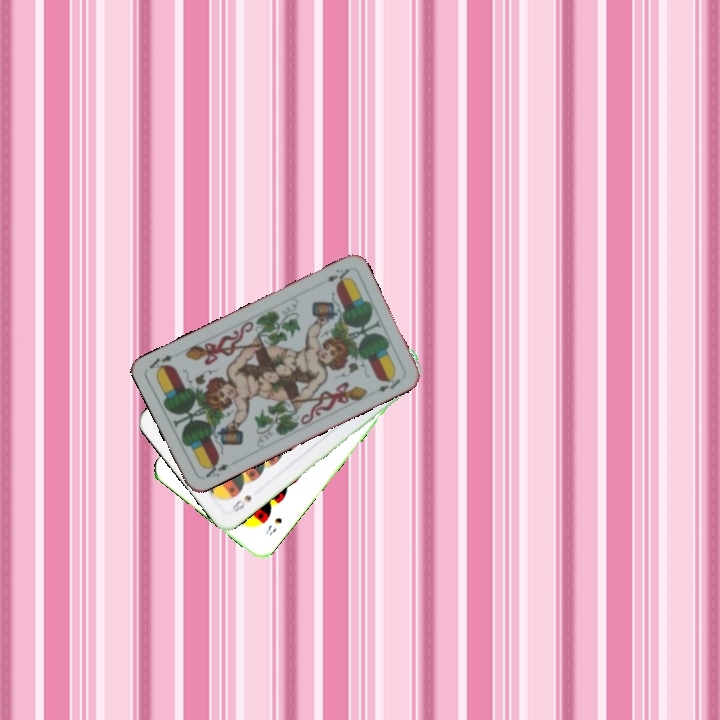EA: (200, 457, 231, 480), (323, 265, 353, 286)
S8: (228, 491, 254, 515), (262, 513, 285, 538)
